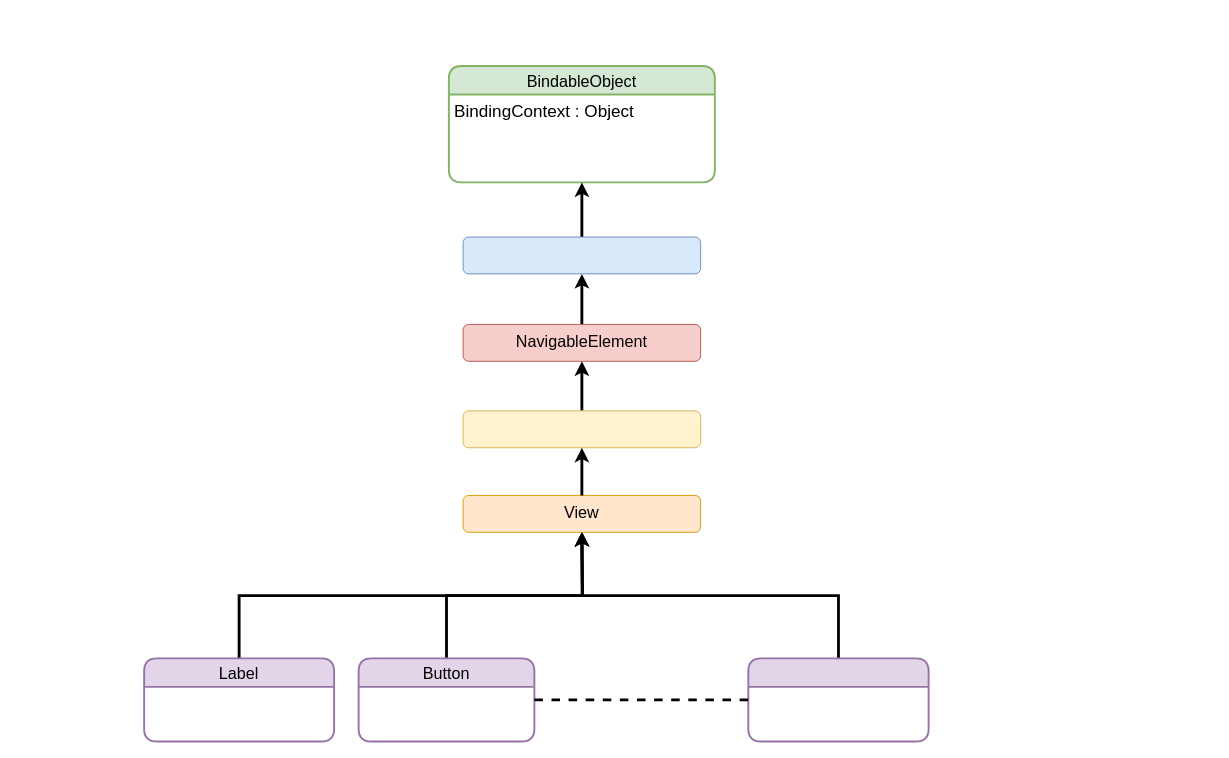
Some shapes in this 1229 by 758 pixel diagram are drawn without their labels. Each missing label, with the box of its shape:
Element: (462, 236, 701, 274)
Entry: (747, 657, 929, 742)
VisualElement: (462, 410, 701, 448)
